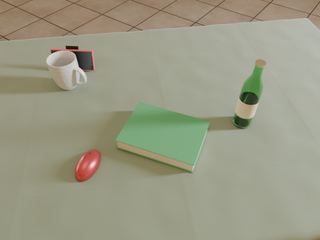book: (115, 102, 210, 173)
bottle: (233, 60, 266, 128)
cup: (46, 50, 87, 90)
mouse: (75, 150, 101, 181)
phone: (51, 49, 95, 70)
